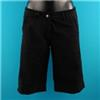bermuda: (18, 7, 84, 94)
